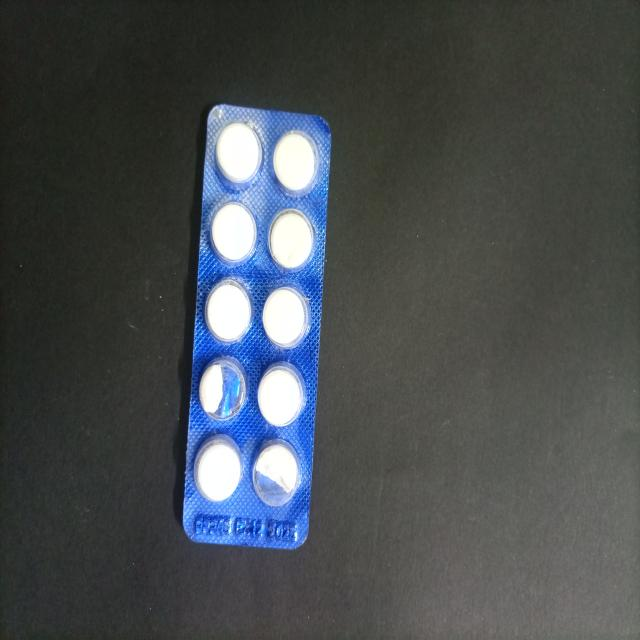defect: (197, 351, 251, 424), (252, 436, 302, 508)
